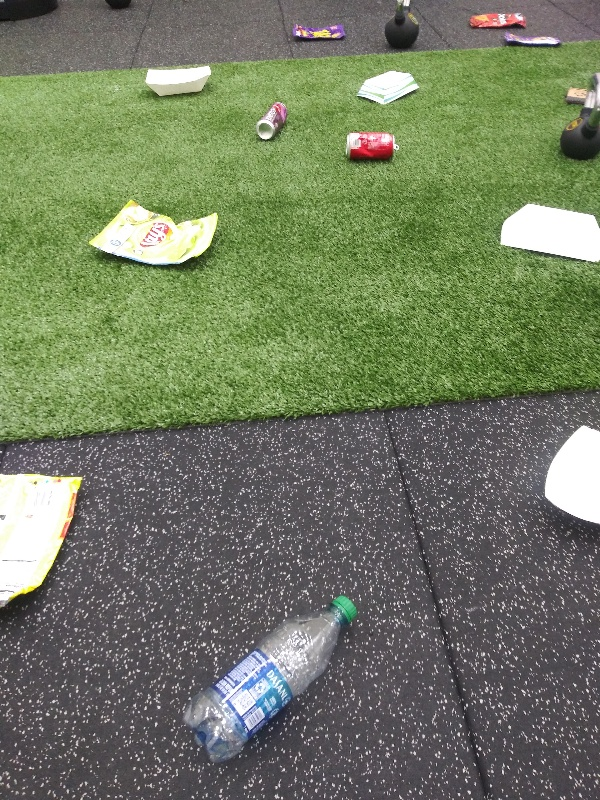bag: (1, 463, 87, 612), (84, 190, 225, 268), (286, 22, 344, 47), (462, 9, 529, 29), (498, 30, 563, 49)
bottle: (178, 591, 362, 765)
can: (251, 95, 296, 143), (339, 129, 403, 161)
plate: (534, 422, 600, 539), (496, 199, 600, 269), (139, 60, 217, 100), (355, 66, 423, 109)
